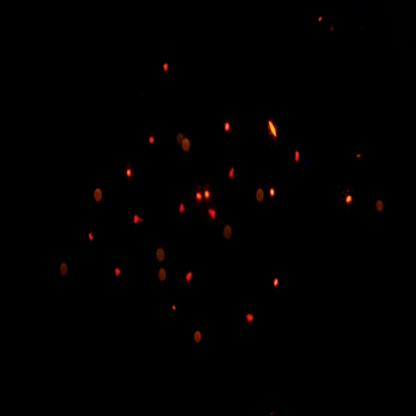PET: (111, 258, 128, 286), (129, 209, 147, 233), (244, 304, 259, 329), (183, 265, 197, 290), (146, 130, 158, 156), (84, 228, 98, 249), (177, 198, 190, 220), (352, 147, 365, 169), (168, 301, 183, 319), (228, 163, 239, 186), (207, 206, 220, 223), (292, 149, 304, 167), (161, 60, 173, 76)
PS: (191, 326, 205, 349), (256, 184, 268, 207), (222, 223, 235, 244), (156, 267, 169, 288), (93, 186, 106, 205), (155, 246, 167, 266), (59, 260, 70, 281), (376, 197, 387, 218), (182, 138, 193, 157)
PVC: (266, 115, 281, 145), (345, 186, 357, 212), (271, 273, 283, 296), (224, 118, 234, 136), (269, 185, 279, 202), (126, 165, 136, 181), (195, 189, 204, 204), (205, 189, 212, 203)
